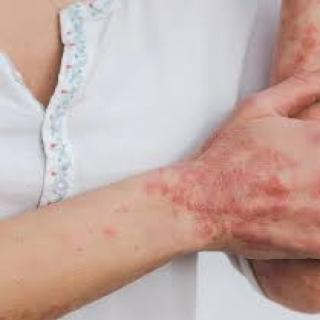urticaria: (152, 176, 258, 234), (217, 144, 285, 200), (240, 207, 288, 248), (115, 197, 137, 219), (99, 220, 120, 238)
